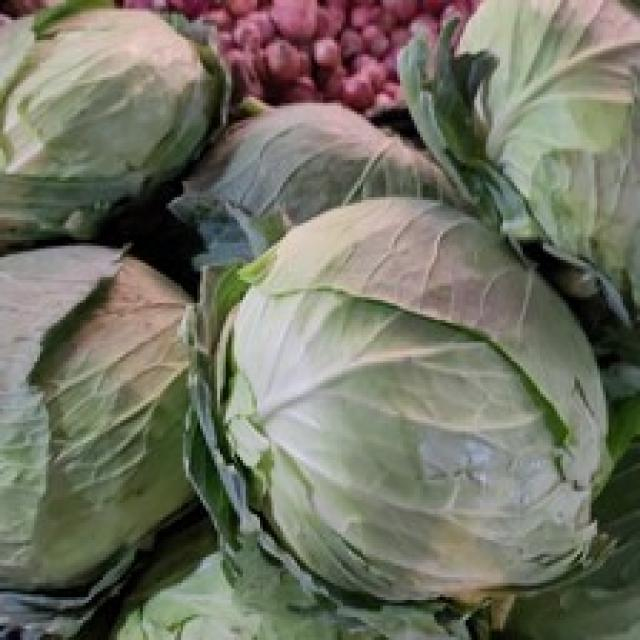Cabbage: (180, 192, 614, 637)
